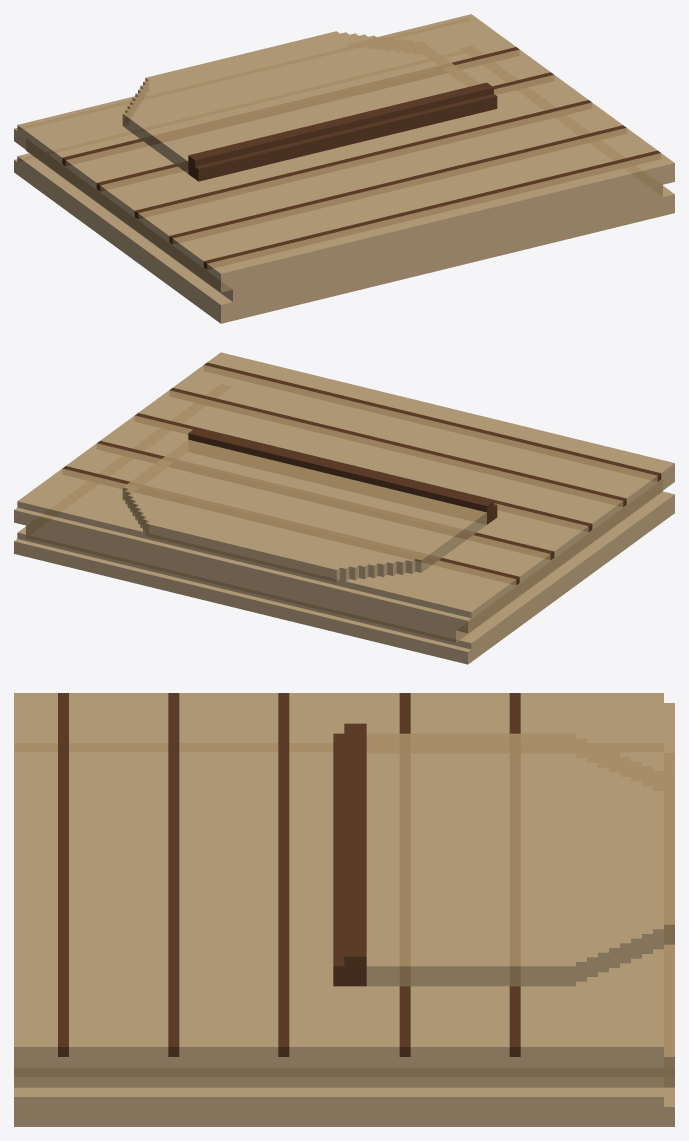
File: coat_gut.glb
The picture shows the model from 3 angles, top to bottom: view 1: azimuth 30°, elevation 25°; view 2: azimuth 150°, elevation 25°; view 3: azimuth 270°, elevation 25°; orthographic projection. The views are drawn at different scales.
Parts seen in each view (by area): view 1: coat_gut:compound; view 2: coat_gut:compound; view 3: coat_gut:compound.
Boxes of the visible parts, x1=… form: coat_gut:compound: x1=14, y1=14, x2=674, y2=323; coat_gut:compound: x1=14, y1=352, x2=674, y2=664; coat_gut:compound: x1=14, y1=693, x2=674, y2=1126.
Size of the model in its own units: 0.304 by 0.044 by 0.24.
